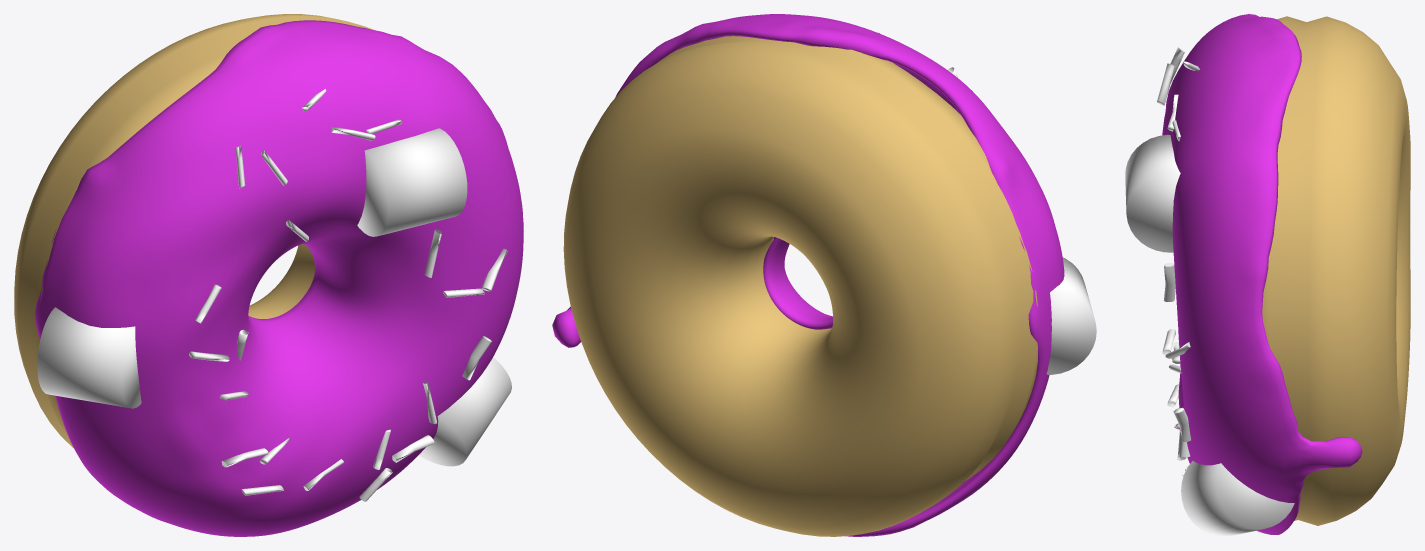
The model's file is Donut_marshmallows.gltf.
3 views of the same model, side by side, from view 1: azimuth 30°, elevation 25°; view 2: azimuth 150°, elevation 25°; view 3: azimuth 270°, elevation 25° (orthographic). The views are drawn at different scales.
Parts seen in each view (by area): view 1: Icing, Marshmallows, Donut, Sprinkle; view 2: Donut, Icing, Marshmallows; view 3: Donut, Icing, Marshmallows, Sprinkle.
Boxes of the visible parts, x1,y1,x2,y2 form: Icing: [35, 20, 523, 536]; Marshmallows: [37, 128, 511, 466]; Donut: [14, 14, 374, 448]; Sprinkle: [189, 89, 507, 501]; Donut: [563, 36, 1037, 536]; Icing: [552, 14, 1064, 536]; Marshmallows: [1046, 257, 1096, 374]; Donut: [1262, 16, 1410, 525]; Icing: [1162, 14, 1362, 534]; Marshmallows: [1125, 134, 1294, 536]; Sprinkle: [1150, 47, 1199, 476].
Size of the model in its own units: 0.1067 by 0.1015 by 0.0548.
